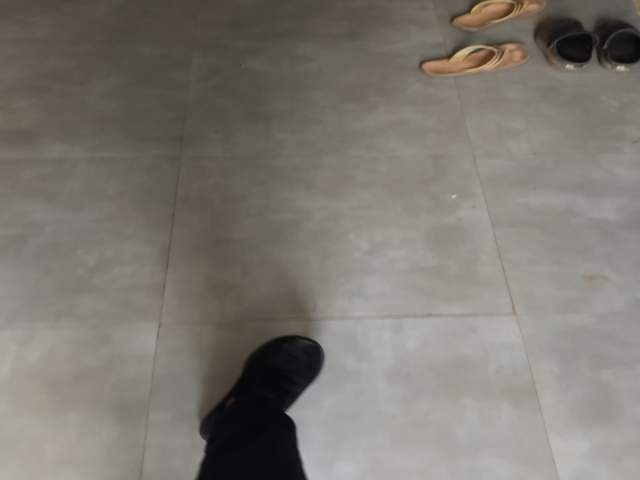pothole: (259, 406, 386, 480)
